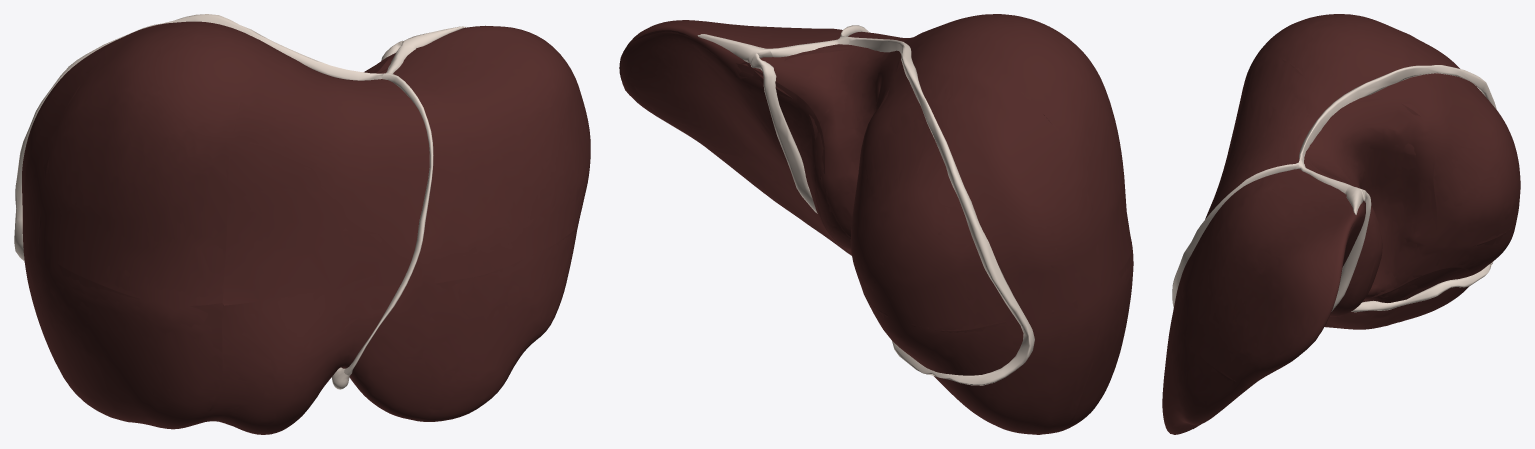
File: optimized-liver.glb
3 views of the same model, side by side, from view 1: azimuth 30°, elevation 25°; view 2: azimuth 150°, elevation 25°; view 3: azimuth 270°, elevation 25° (orthographic). The views are drawn at different scales.
Parts seen in each view (by area): view 1: VH_F_capsule_of_the_liver, VH_F_left_superomedial_segment1, VH_F_left_superomedial_segment, VH_F_right_anterosuperior_segment, VH_F_left_inferomedial_segment, VH_F_right_anteroinferior_segment, VH_F_left_anterolateral_segment, VH_F_coronary_ligament_of_liver, VH_F_falciform_ligament, VH_F_right_posterosuperior_segment; view 2: VH_F_capsule_of_the_liver, VH_F_bare_area_of_liver, VH_F_diaphragmatic_surface_of_liver, VH_F_left_superomedial_segment, VH_F_coronary_ligament_of_liver, VH_F_right_posterosuperior_segment, VH_F_caudate_lobe, VH_F_ligamentum_venosum, VH_F_gastric_impression_of_liver, VH_F_right_posteroinferior_segment, VH_F_right_anterosuperior_segment, VH_F_left_anterolateral_segment (+3 smaller); view 3: VH_F_capsule_of_the_liver, VH_F_bare_area_of_liver, VH_F_left_superomedial_segment, VH_F_caudate_lobe, VH_F_coronary_ligament_of_liver, VH_F_left_superomedial_segment1, VH_F_diaphragmatic_surface_of_liver, VH_F_right_posterosuperior_segment, VH_F_left_anterolateral_segment, VH_F_falciform_ligament, VH_F_ligamentum_venosum, VH_F_right_posteroinferior_segment (+3 smaller).
Part boxes in pixels (<box>): VH_F_capsule_of_the_liver: <box>22,21,590,434</box>; VH_F_left_superomedial_segment1: <box>222,55,433,305</box>; VH_F_left_superomedial_segment: <box>380,29,590,284</box>; VH_F_right_anterosuperior_segment: <box>38,23,278,305</box>; VH_F_left_inferomedial_segment: <box>209,284,398,433</box>; VH_F_right_anteroinferior_segment: <box>38,248,223,426</box>; VH_F_left_anterolateral_segment: <box>342,226,577,419</box>; VH_F_coronary_ligament_of_liver: <box>14,14,413,261</box>; VH_F_falciform_ligament: <box>344,73,433,375</box>; VH_F_right_posterosuperior_segment: <box>22,31,141,247</box>; VH_F_capsule_of_the_liver: <box>619,14,1133,434</box>; VH_F_bare_area_of_liver: <box>749,47,1023,375</box>; VH_F_diaphragmatic_surface_of_liver: <box>619,30,996,425</box>; VH_F_left_superomedial_segment: <box>622,20,840,175</box>; VH_F_coronary_ligament_of_liver: <box>767,36,1034,385</box>; VH_F_right_posterosuperior_segment: <box>852,62,1101,331</box>; VH_F_caudate_lobe: <box>779,47,899,250</box>; VH_F_ligamentum_venosum: <box>751,53,817,213</box>; VH_F_gastric_impression_of_liver: <box>666,66,851,255</box>; VH_F_right_posteroinferior_segment: <box>866,283,1102,434</box>; VH_F_right_anterosuperior_segment: <box>894,18,1132,282</box>; VH_F_left_anterolateral_segment: <box>716,151,831,237</box>; VH_F_capsule_of_the_liver: <box>1162,14,1472,434</box>; VH_F_bare_area_of_liver: <box>1306,74,1520,298</box>; VH_F_left_superomedial_segment: <box>1176,172,1365,381</box>; VH_F_caudate_lobe: <box>1305,98,1438,316</box>; VH_F_coronary_ligament_of_liver: <box>1298,65,1496,312</box>; VH_F_left_superomedial_segment1: <box>1199,57,1323,240</box>; VH_F_diaphragmatic_surface_of_liver: <box>1170,201,1495,433</box>; VH_F_right_posterosuperior_segment: <box>1392,31,1519,245</box>; VH_F_left_anterolateral_segment: <box>1162,299,1240,427</box>; VH_F_falciform_ligament: <box>1172,162,1298,307</box>; VH_F_ligamentum_venosum: <box>1331,189,1371,311</box>; VH_F_right_posteroinferior_segment: <box>1386,226,1513,325</box>.
Size of the model in its own units: 0.2471 by 0.17 by 0.1663.
